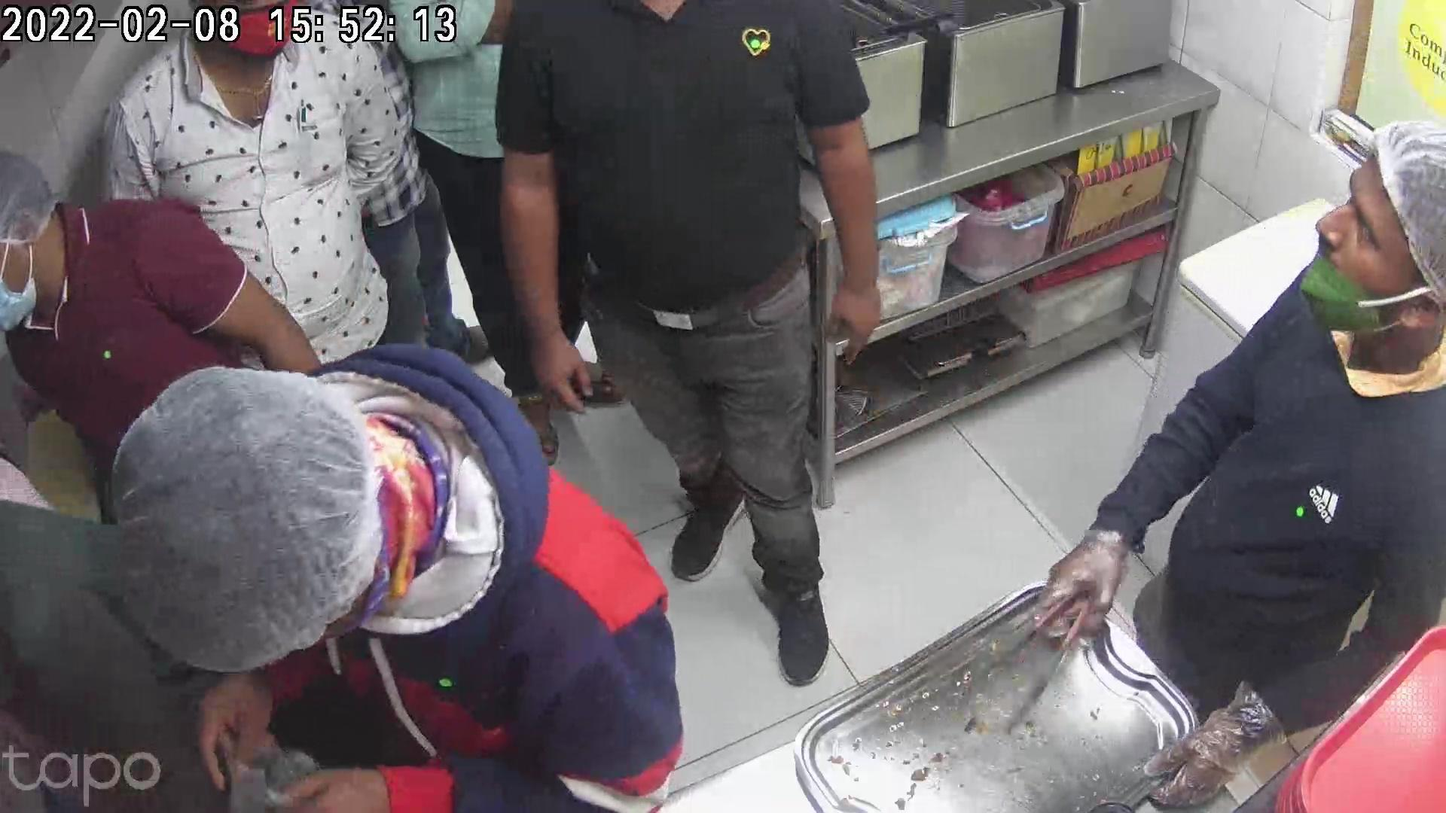no_gloves: (525, 310, 590, 413)
